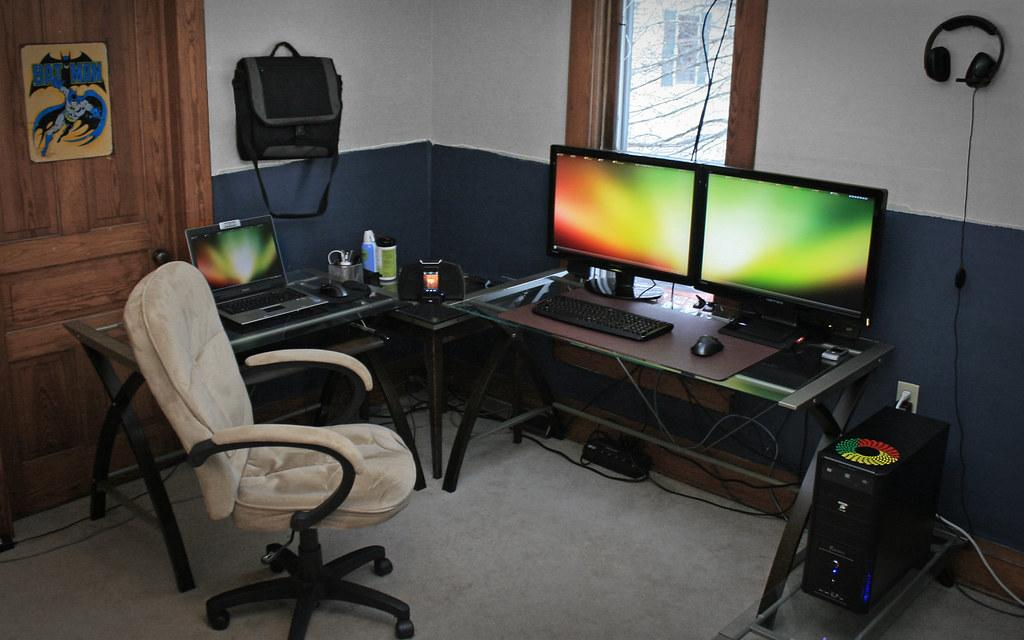computer: (689, 146, 894, 329), (802, 405, 951, 615), (529, 126, 697, 277), (184, 214, 330, 327)
